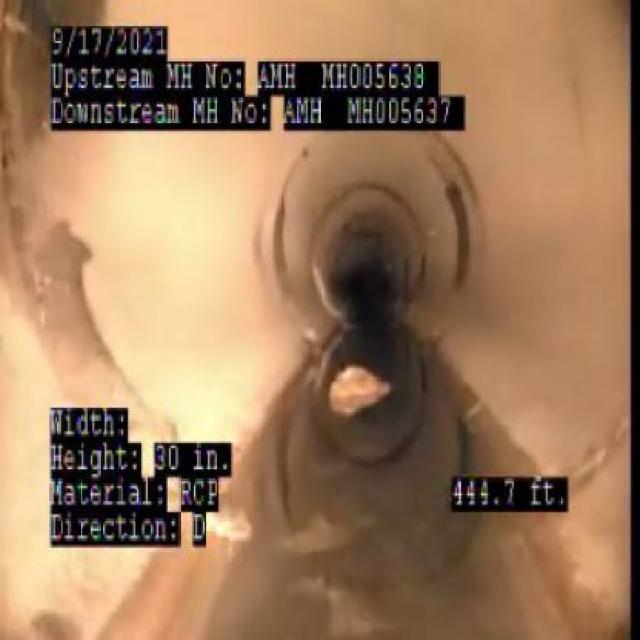Debris: (311, 342, 395, 426)
